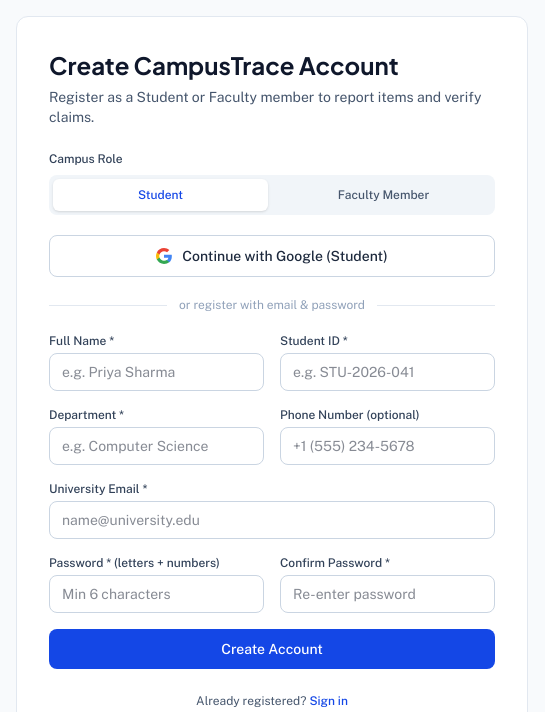
Scenario: Validation Testing Suite › TC-VAL-05: Displays clear error when registering with an already registered email
Type "Priya Sharma" into the field labelled "Full Name *" at point(156, 372), box left=49, top=353, right=264, bottom=391
Type "STU-2026-041" into the field labelled "Student ID *" at point(388, 372), box left=280, top=353, right=495, bottom=391
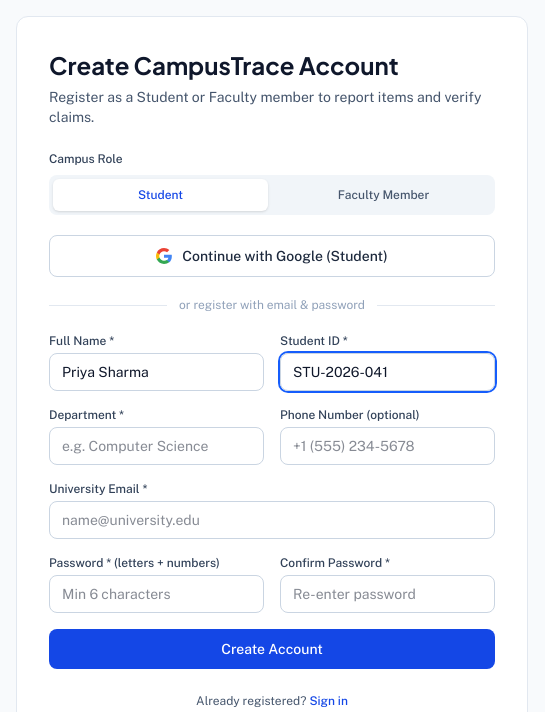
Type "Computer Science" into the field labelled "Department *" at point(156, 446), box left=49, top=427, right=264, bottom=465
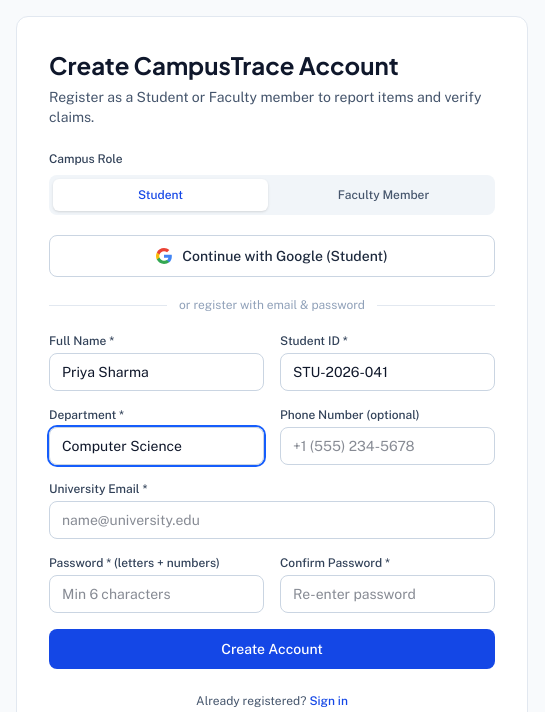
Type "existing@university.edu" into the field labelled "University Email *" at point(272, 520), box left=49, top=501, right=495, bottom=539
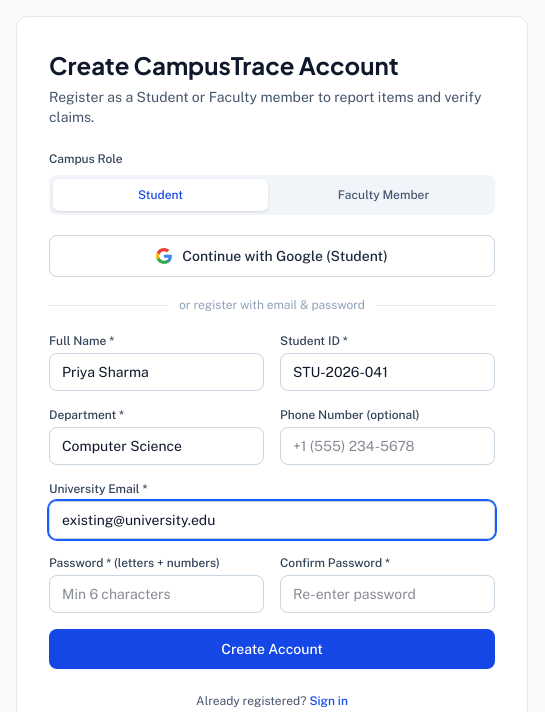
Type "Campus2026" into the password field labelled "Password * (letters + numbers)" at point(156, 594), box left=49, top=575, right=264, bottom=613
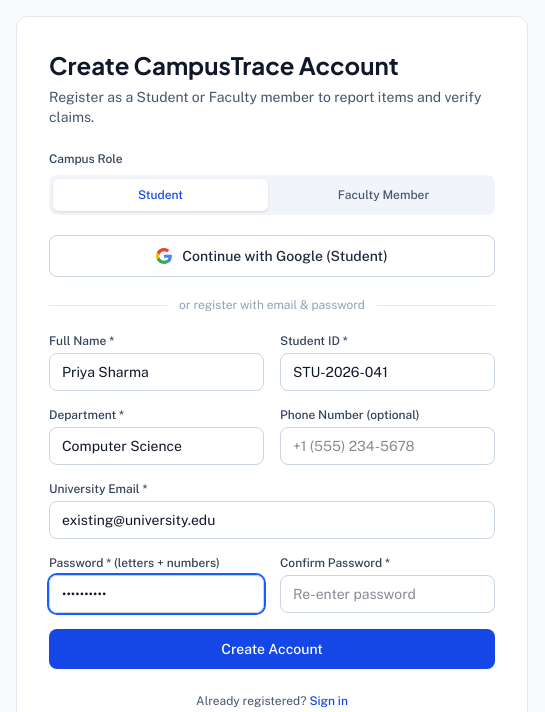
Type "Campus2026" into the password field labelled "Confirm Password *" at point(388, 594), box left=280, top=575, right=495, bottom=613
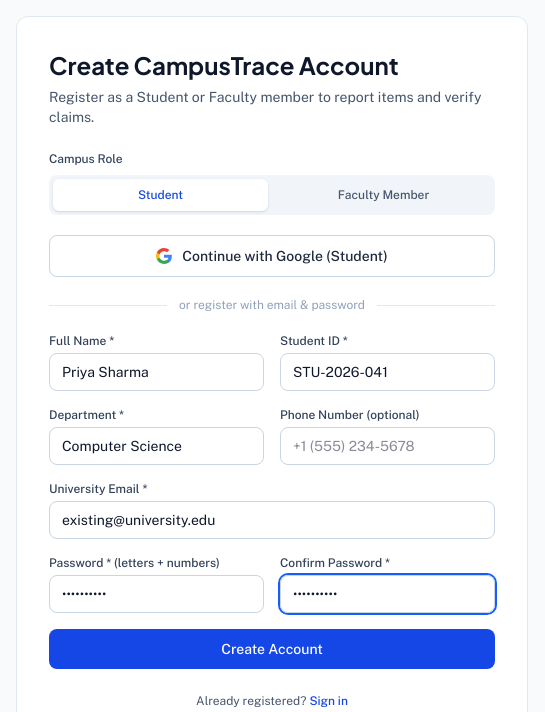
Click the button "Create Account" at point(272, 649), box left=49, top=629, right=495, bottom=669
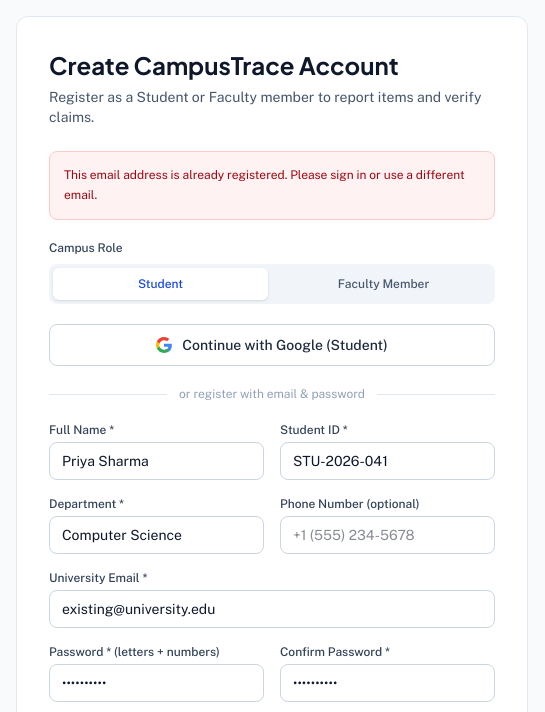
expect the message shows "already registered": met, box left=64, top=168, right=465, bottom=202
